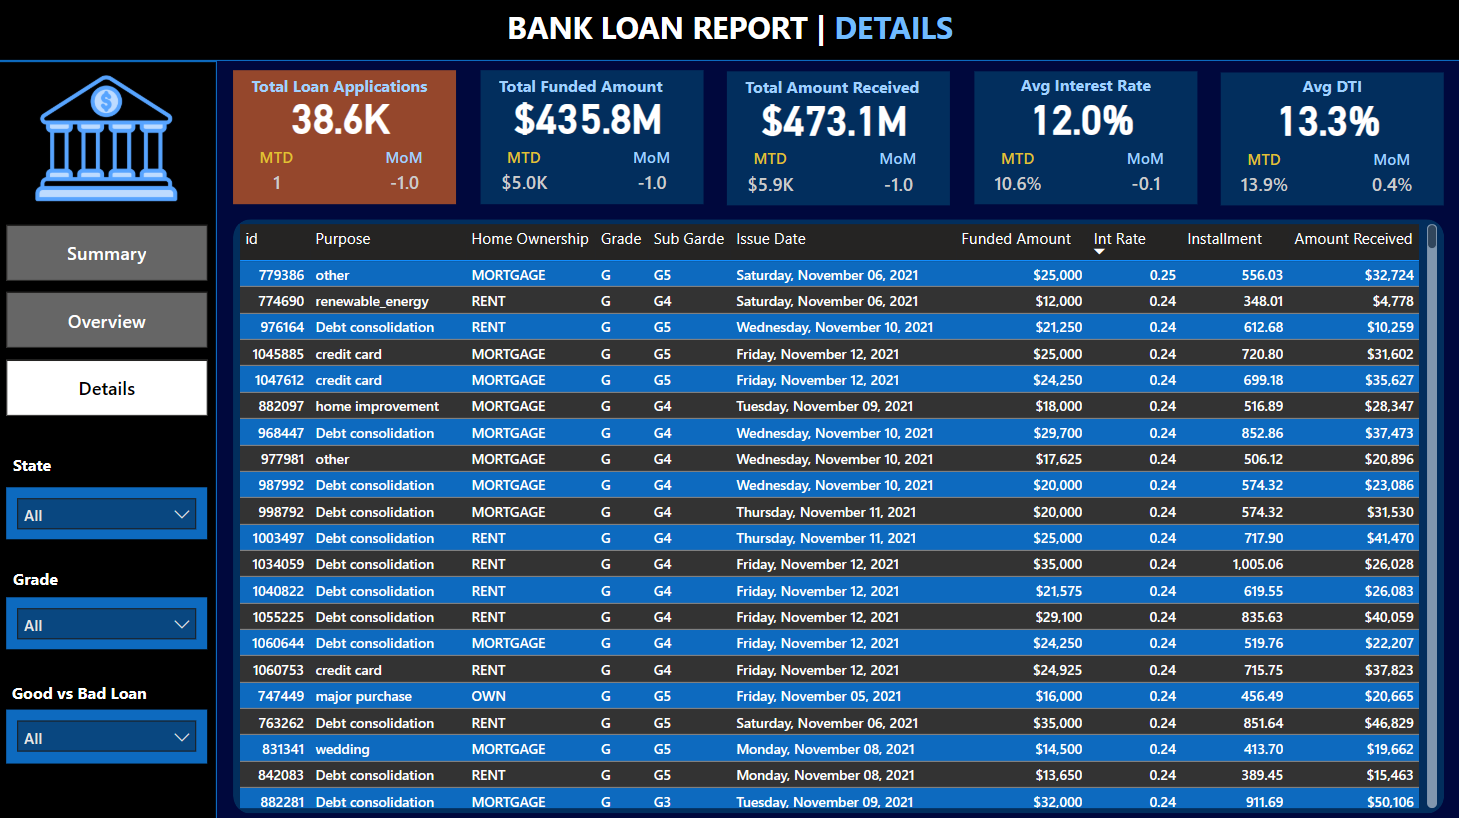

What the dashboard file says about the page in this screenshot:
{"tool":"powerbi","page":{"name":"Details","canvas":[1280,720],"ordinal":2},"visuals":[{"type":"shape","box":[0,0,1280,54.7],"z":0},{"type":"shape","box":[206.3,62.9,194.9,116.5],"z":0,"group":"g3"},{"type":"shape","box":[421.8,62.9,194.9,116.5],"z":0,"group":"g4"},{"type":"shape","box":[852.9,63.8,194.9,116.5],"z":0,"group":"g6"},{"type":"shape","box":[637.4,63.9,194.9,116.5],"z":0,"group":"g5"},{"type":"shape","box":[1068.5,64.8,194.9,116.5],"z":0,"group":"g7"},{"type":"shape","box":[0,54.7,192,665.3],"z":1000},{"type":"card","fields":{"Values":["bank_loan_data.Total Loan Application"]},"box":[202.2,81.5,194.9,43.3],"z":1000,"group":"g3"},{"type":"card","fields":{"Values":["bank_loan_data.Total Funded Amount"]},"box":[417.7,81.5,194.9,43.3],"z":1000,"group":"g4"},{"type":"card","fields":{"Values":["bank_loan_data.Avg Interest Rate"]},"box":[848.8,82.4,194.9,43.3],"z":1000,"group":"g6"},{"type":"card","fields":{"Values":["bank_loan_data.Total Amount Received"]},"box":[633.3,82.5,194.9,43.3],"z":1000,"group":"g5"},{"type":"card","fields":{"Values":["bank_loan_data.Avg DTI"]},"box":[1064.4,83.4,194.9,43.3],"z":1000,"group":"g7"},{"type":"textbox","box":[849.7,61.9,197,39.2],"z":2000,"group":"g6"},{"type":"textbox","box":[217.7,62.9,165,37.1],"z":2000,"group":"g3"},{"type":"textbox","box":[433.2,62.9,165,37.1],"z":2000,"group":"g4"},{"type":"textbox","box":[1065.3,62.9,197,39.2],"z":2000,"group":"g7"},{"type":"textbox","box":[648.8,63.9,165,37.1],"z":2000,"group":"g5"},{"type":"shape","box":[206.3,192.9,1057.2,518.8],"z":2000},{"type":"textbox","box":[420.8,3.1,438.3,49.5],"z":3000},{"type":"card","title":"MTD","fields":{"Values":["bank_loan_data.MTD Loan Applications"]},"box":[217.7,129.9,53.6,49.5],"z":3000,"group":"g3"},{"type":"card","title":"MTD","fields":{"Values":["bank_loan_data.MTD Funded Amount"]},"box":[433.2,129.9,53.6,49.5],"z":3000,"group":"g4"},{"type":"card","title":"MTD","fields":{"Values":["bank_loan_data.MTD Total Amount Recieved"]},"box":[648.8,130.9,53.6,49.5],"z":3000,"group":"g5"},{"type":"card","title":"MTD","fields":{"Values":["bank_loan_data.MTD Avg Int Rate"]},"box":[864.3,130.9,53.6,49.5],"z":3000,"group":"g6"},{"type":"card","title":"MTD","fields":{"Values":["bank_loan_data.MTD Avg DTI"]},"box":[1079.9,131.9,53.6,49.5],"z":3000,"group":"g7"},{"type":"group","id":"g1","title":"Group 1","box":[202.2,62.9,199.1,116.5],"z":4000},{"type":"card","title":"MoM","fields":{"Values":["bank_loan_data.MoM Loan Applications"]},"box":[329.1,129.9,53.6,49.5],"z":4000,"group":"g3"},{"type":"card","title":"MoM","fields":{"Values":["bank_loan_data.MoM Total Funded Amount"]},"box":[544.6,129.9,53.6,49.5],"z":4000,"group":"g4"},{"type":"card","title":"MoM","fields":{"Values":["bank_loan_data.MoM Total Amount Received"]},"box":[760.2,130.9,53.6,49.5],"z":4000,"group":"g5"},{"type":"card","title":"MoM","fields":{"Values":["bank_loan_data.MoM Avg Int Rate"]},"box":[975.7,130.9,53.6,49.5],"z":4000,"group":"g6"},{"type":"card","title":"MoM","fields":{"Values":["bank_loan_data.MoM Avg DTI"]},"box":[1191.3,131.9,53.6,49.5],"z":4000,"group":"g7"},{"type":"group","id":"g2","title":"Group 1","box":[417.7,62.9,199.1,116.5],"z":5000},{"type":"group","id":"g3","title":"Group 2","box":[202.2,62.9,199.1,116.5],"z":5004,"group":"g1"},{"type":"group","id":"g4","title":"Group 2","box":[417.7,62.9,199.1,116.5],"z":5004,"group":"g2"},{"type":"group","id":"g5","title":"Group 2","box":[633.3,63.9,199.1,116.5],"z":6000},{"type":"group","id":"g6","title":"Group 2","box":[848.8,61.9,199.1,118.6],"z":7000},{"type":"group","id":"g7","title":"Group 2","box":[1064.4,62.9,199.1,118.6],"z":8000},{"type":"slicer","fields":{"Values":["bank_loan_data.address_state"]},"box":[7.6,426.8,176.1,46.5],"z":9000},{"type":"textbox","box":[8.6,394.3,60.5,32.4],"z":10000},{"type":"slicer","fields":{"Values":["bank_loan_data.grade"]},"box":[7.6,522.9,176.1,46.5],"z":11000},{"type":"slicer","fields":{"Values":["bank_loan_data.Good vs Bad Loan"]},"box":[7.6,621.2,176.1,46.5],"z":12000},{"type":"textbox","box":[8.3,593.1,140.3,33],"z":13000},{"type":"textbox","box":[8.6,492.7,60.5,32.4],"z":14000},{"type":"tableEx","fields":{"Values":["bank_loan_data.id","bank_loan_data.purpose","bank_loan_data.home_ownership","bank_loan_data.grade","bank_loan_data.sub_grade","bank_loan_data.issue_date","bank_loan_data.Total Funded Amount","Sum(bank_loan_data.int_rate)","Sum(bank_loan_data.installment)","bank_loan_data.Total Amount Received"]},"box":[206.3,192.9,1056.2,518.8],"z":15000},{"type":"pageNavigator","box":[8.3,198,175.3,168.1],"z":16000},{"type":"image","box":[25.8,52.6,139.2,139.2],"z":17000}]}

Visuals, with their boxes in screenshot pixels (x1, y1, x2, y2), scaled from the page's 1280x720 canvas onto the 1459x818 screenshot:
shape: Rect(0, 0, 1458, 62)
shape: Rect(235, 71, 457, 204)
shape: Rect(481, 71, 703, 204)
shape: Rect(972, 72, 1194, 205)
shape: Rect(727, 73, 949, 205)
shape: Rect(1218, 74, 1440, 206)
shape: Rect(0, 62, 219, 817)
card - bank_loan_data.Total Loan Application: Rect(230, 93, 453, 142)
card - bank_loan_data.Total Funded Amount: Rect(476, 93, 698, 142)
card - bank_loan_data.Avg Interest Rate: Rect(967, 94, 1190, 143)
card - bank_loan_data.Total Amount Received: Rect(722, 94, 944, 143)
card - bank_loan_data.Avg DTI: Rect(1213, 95, 1435, 144)
textbox: Rect(969, 70, 1193, 115)
textbox: Rect(248, 71, 436, 114)
textbox: Rect(494, 71, 682, 114)
textbox: Rect(1214, 71, 1439, 116)
textbox: Rect(740, 73, 928, 115)
shape: Rect(235, 219, 1440, 809)
textbox: Rect(480, 4, 979, 60)
"MTD" card: Rect(248, 148, 309, 204)
"MTD" card: Rect(494, 148, 555, 204)
"MTD" card: Rect(740, 149, 801, 205)
"MTD" card: Rect(985, 149, 1046, 205)
"MTD" card: Rect(1231, 150, 1292, 206)
"Group 1" group: Rect(230, 71, 457, 204)
"MoM" card: Rect(375, 148, 436, 204)
"MoM" card: Rect(621, 148, 682, 204)
"MoM" card: Rect(867, 149, 928, 205)
"MoM" card: Rect(1112, 149, 1173, 205)
"MoM" card: Rect(1358, 150, 1419, 206)
"Group 1" group: Rect(476, 71, 703, 204)
"Group 2" group: Rect(230, 71, 457, 204)
"Group 2" group: Rect(476, 71, 703, 204)
"Group 2" group: Rect(722, 73, 949, 205)
"Group 2" group: Rect(967, 70, 1194, 205)
"Group 2" group: Rect(1213, 71, 1440, 206)
slicer - bank_loan_data.address_state: Rect(9, 485, 209, 538)
textbox: Rect(10, 448, 79, 485)
slicer - bank_loan_data.grade: Rect(9, 594, 209, 647)
slicer - bank_loan_data.Good vs Bad Loan: Rect(9, 706, 209, 759)
textbox: Rect(9, 674, 169, 711)
textbox: Rect(10, 560, 79, 597)
tableEx - bank_loan_data.id x bank_loan_data.purpose: Rect(235, 219, 1439, 809)
pageNavigator: Rect(9, 225, 209, 416)
image: Rect(29, 60, 188, 218)
